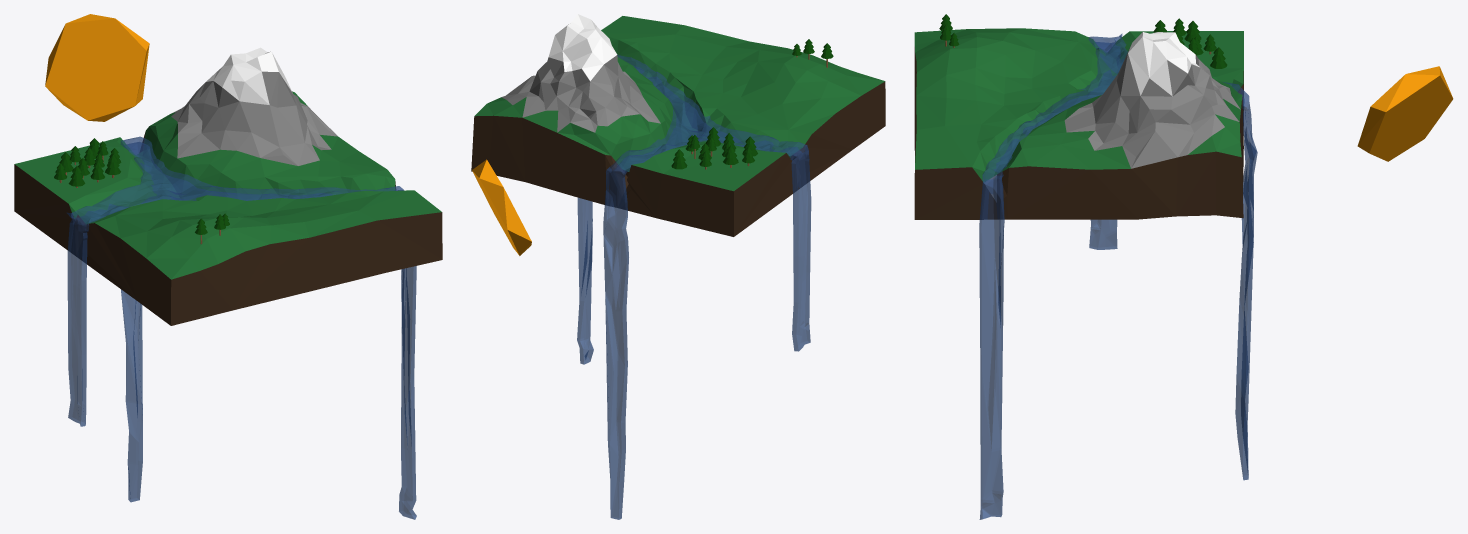
File: landscape.fbx
3 renders of one model, left to right at view 1: azimuth 30°, elevation 25°; view 2: azimuth 150°, elevation 25°; view 3: azimuth 270°, elevation 25°, orthographic. The views are drawn at different scales.
Parts seen in each view (by area): view 1: Plane, Plane.001, Sund; view 2: Plane, Plane.001, Sund; view 3: Plane, Plane.001, Sund.
Part boxes in pixels (bbox=[...]): Plane: bbox=[14, 47, 442, 325]; Plane.001: bbox=[66, 136, 416, 519]; Sund: bbox=[45, 14, 149, 121]; Plane: bbox=[471, 14, 885, 236]; Plane.001: bbox=[577, 54, 811, 519]; Sund: bbox=[472, 159, 531, 255]; Plane: bbox=[914, 28, 1243, 219]; Plane.001: bbox=[979, 33, 1257, 519]; Sund: bbox=[1357, 66, 1453, 161].
Bounding box in the file's own units: 630 × 979 × 982.
